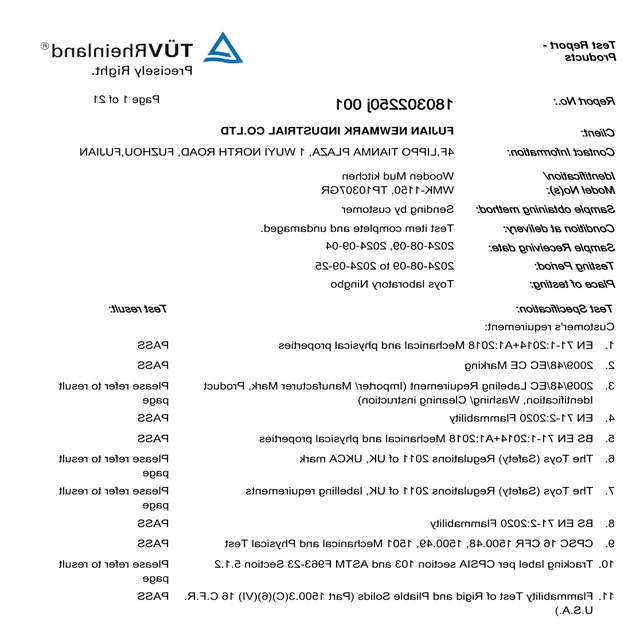tuv_rheinland: (35, 33, 247, 67)
